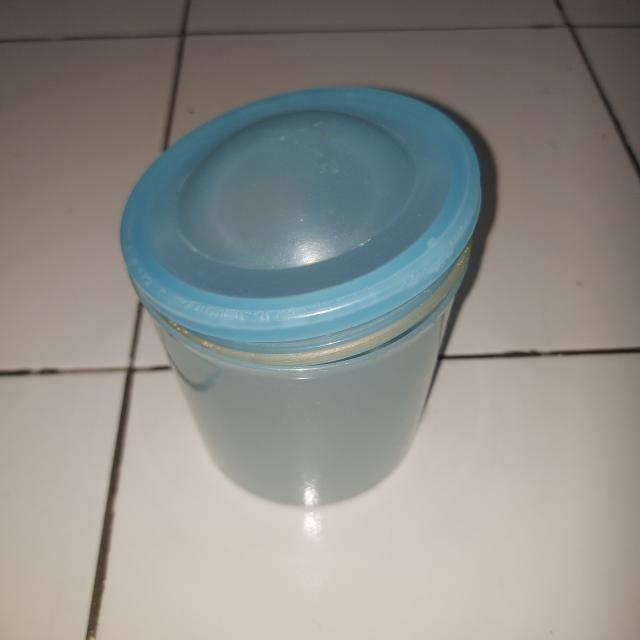Anorganik: (117, 86, 482, 513)
